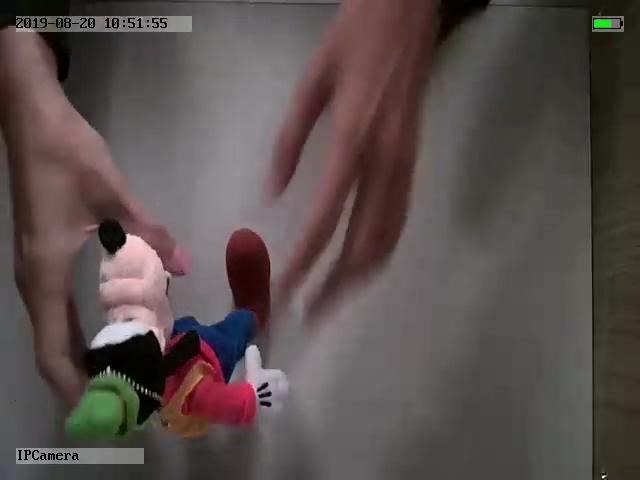goofy: (59, 217, 289, 441)
